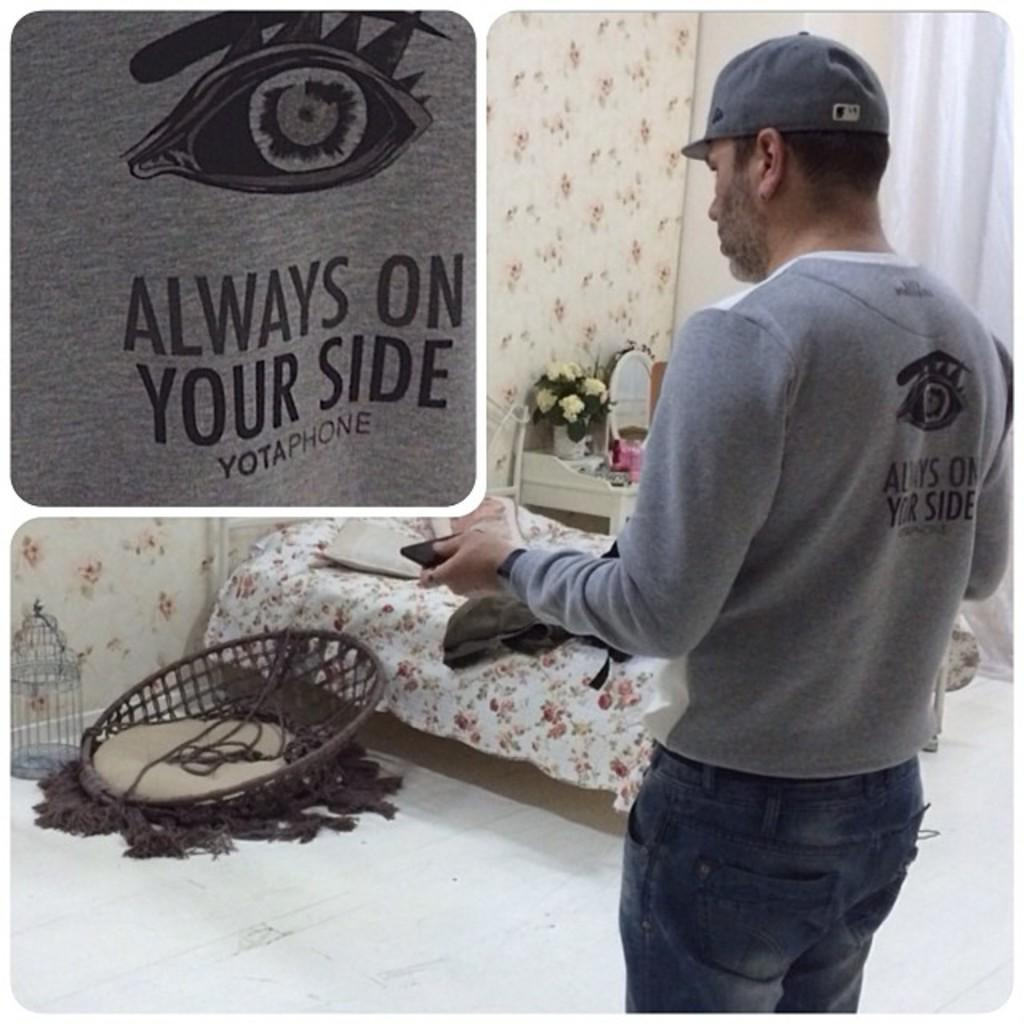Hat: (675, 24, 889, 162)
